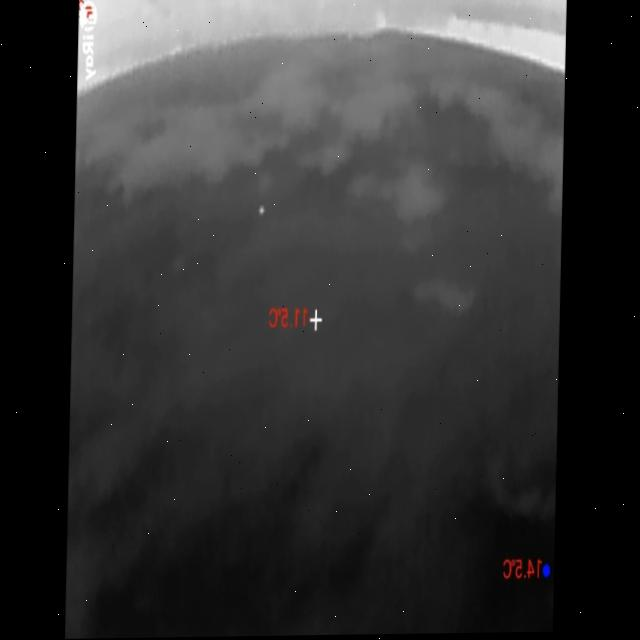drone: (258, 201, 266, 217)
